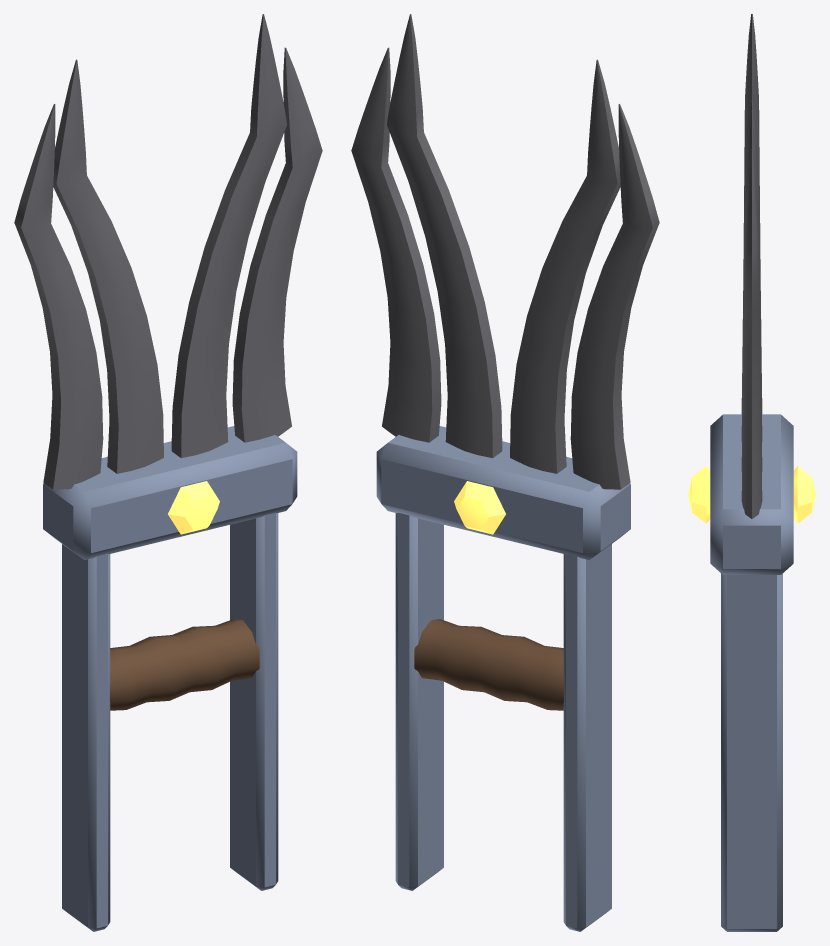
The model's file is depth_furnace_knives.glb.
The picture shows the model from 3 angles, left to right: view 1: azimuth 30°, elevation 25°; view 2: azimuth 150°, elevation 25°; view 3: azimuth 270°, elevation 25°; orthographic projection. The views are drawn at different scales.
Parts seen in each view (by area): view 1: depth_furnace_knives; view 2: depth_furnace_knives; view 3: depth_furnace_knives.
Part boxes in pixels (left/top/right/bottom): depth_furnace_knives: left=14, top=14, right=322, bottom=931; depth_furnace_knives: left=351, top=14, right=659, bottom=931; depth_furnace_knives: left=688, top=14, right=815, bottom=931.
Size of the model in its own units: 0.1634 by 0.4421 by 0.0616.
